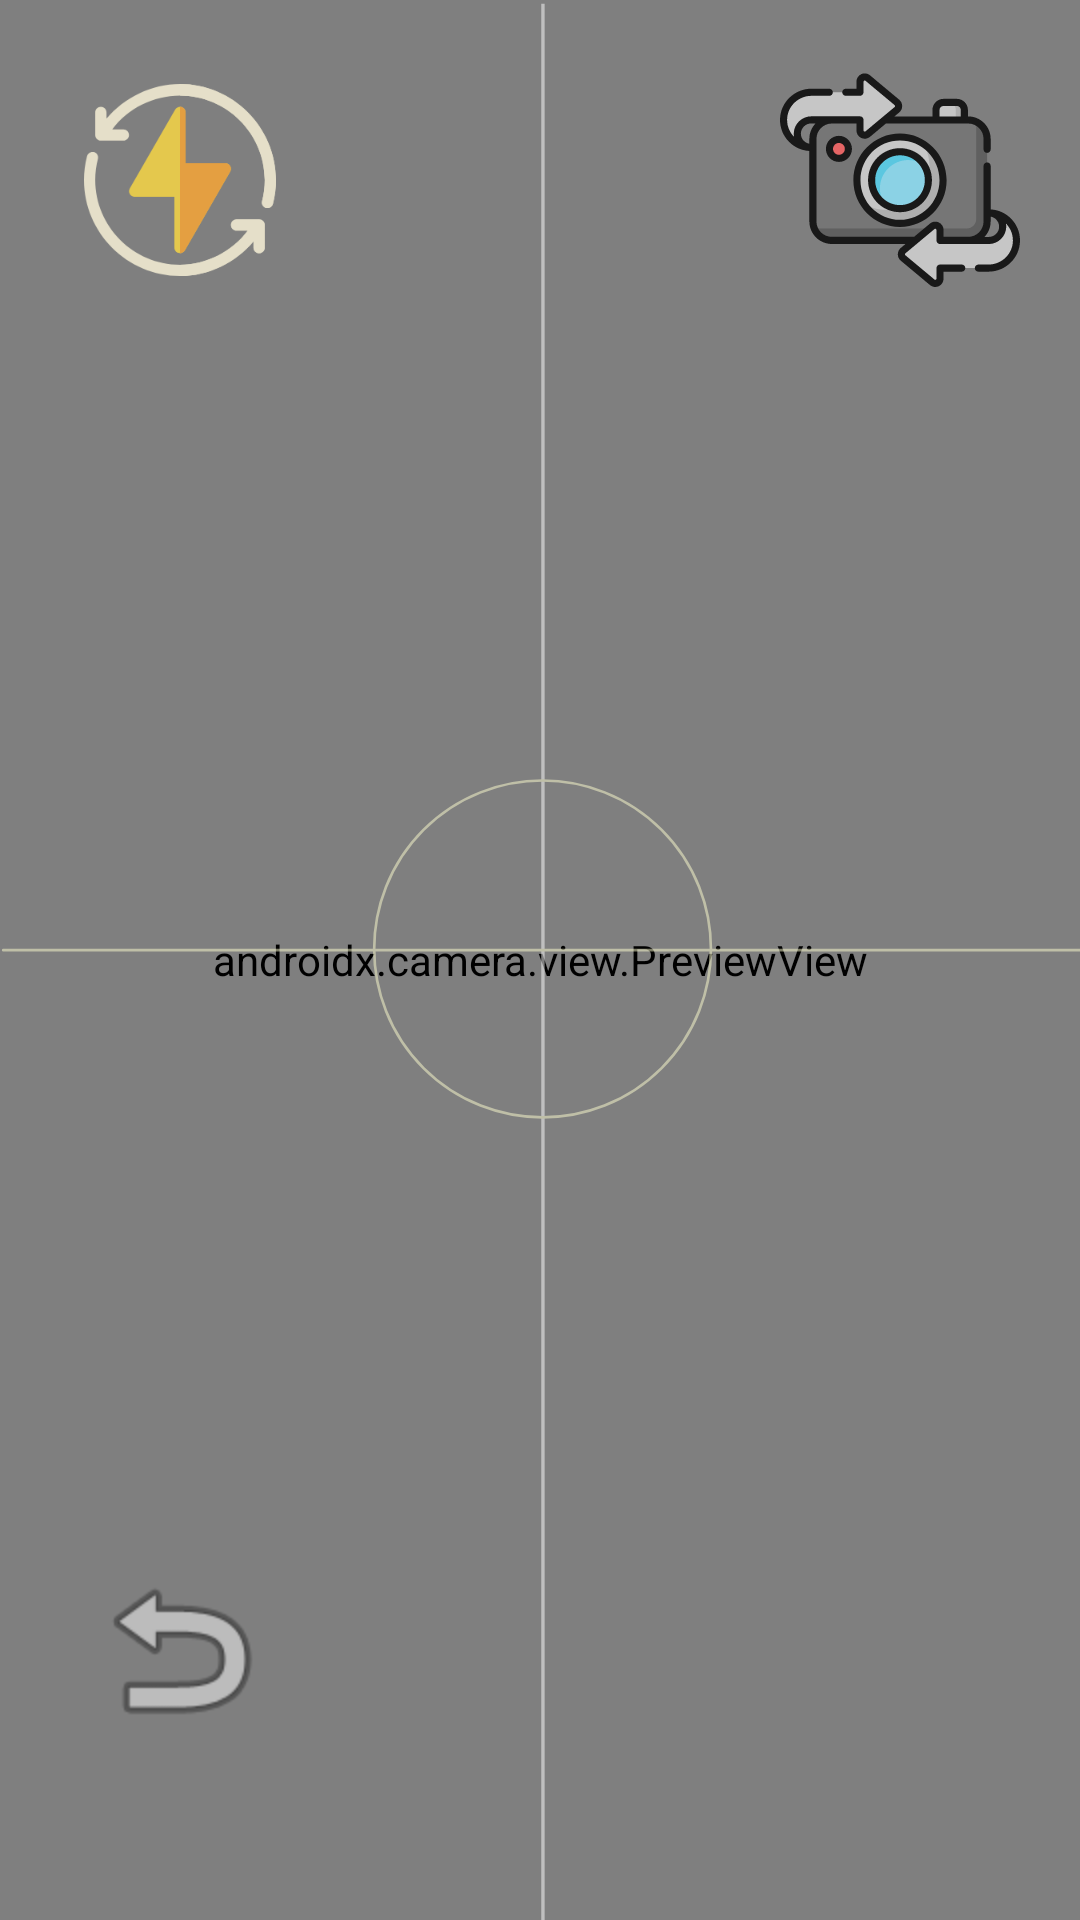

Named icons in this screenshot (1080×1920) and their bounding boxes, {"left": x1, "top": y1, "right": x2, "bottom": y2}:
switchcam: {"left": 780, "top": 73, "right": 1020, "bottom": 287}
